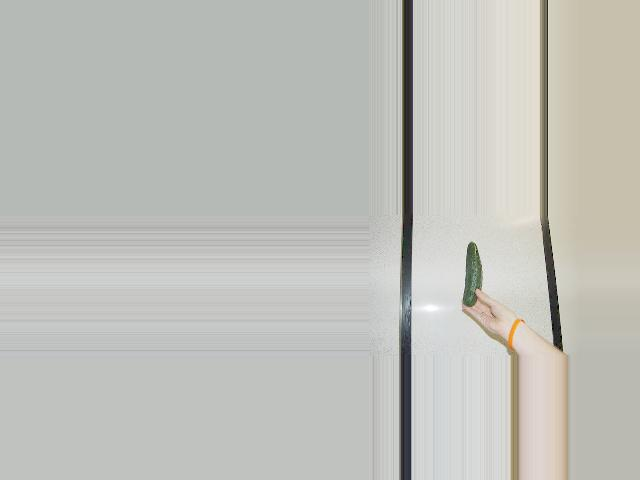cucumber: (462, 241, 481, 307)
